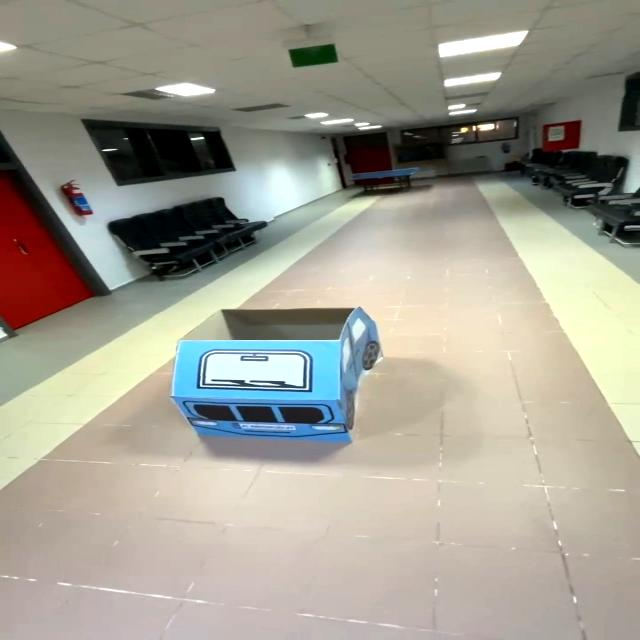blue_car: (164, 298, 400, 453)
